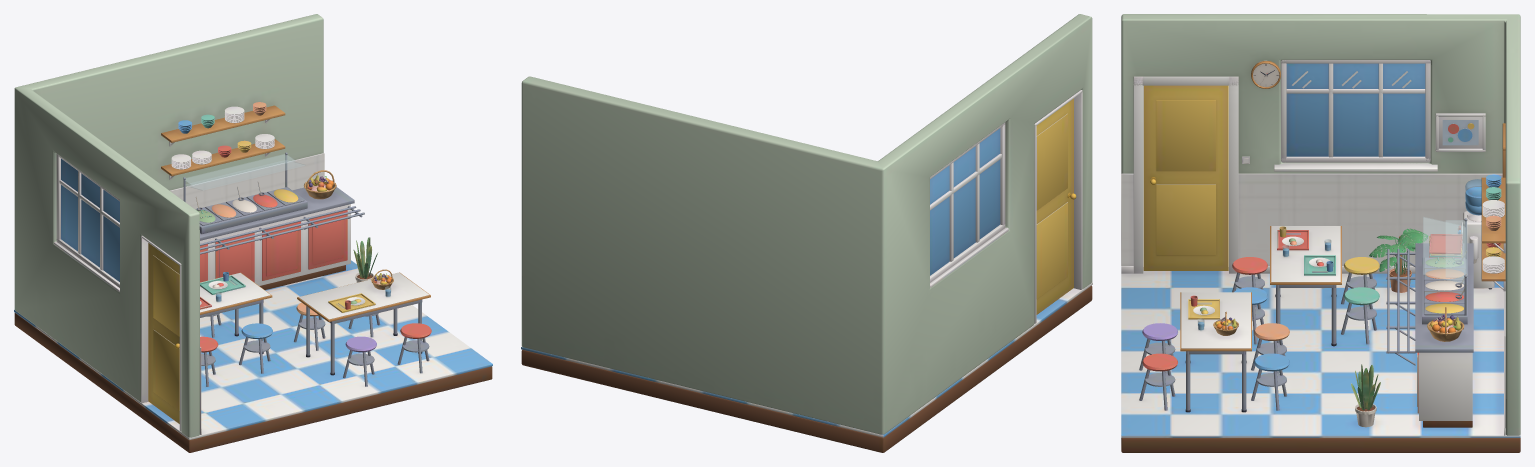
Rendered from cafeteria-grab3d.glb.
The picture shows the model from 3 angles, left to right: view 1: azimuth 30°, elevation 25°; view 2: azimuth 150°, elevation 25°; view 3: azimuth 270°, elevation 25°; orthographic projection. The views are drawn at different scales.
Visible parts, largest first — view 1: cafeteria_body, cafeteria_food_well_guard_glass; view 2: cafeteria_body; view 3: cafeteria_body, cafeteria_food_well_guard_glass, cafeteria_water_cooler_glass.
Boxes of the visible parts, x1=… form: cafeteria_body: x1=14, y1=14, x2=492, y2=452; cafeteria_food_well_guard_glass: x1=184, y1=154, x2=305, y2=190; cafeteria_body: x1=521, y1=14, x2=1092, y2=452; cafeteria_body: x1=1121, y1=14, x2=1520, y2=452; cafeteria_food_well_guard_glass: x1=1423, y1=217, x2=1467, y2=283; cafeteria_water_cooler_glass: x1=1465, y1=179, x2=1481, y2=215.
Size of the model in its own units: 4 by 3 by 4.
4 materials, 1 textured.
